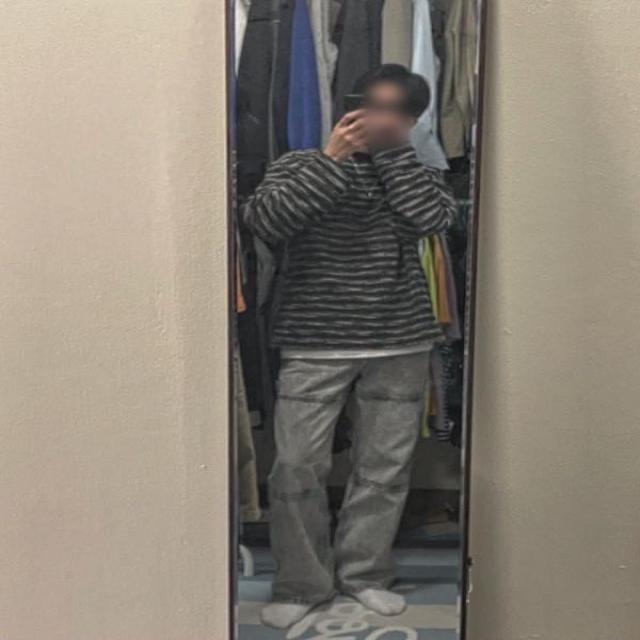denimpants: (273, 344, 429, 600)
longsleeve: (242, 145, 453, 348)
